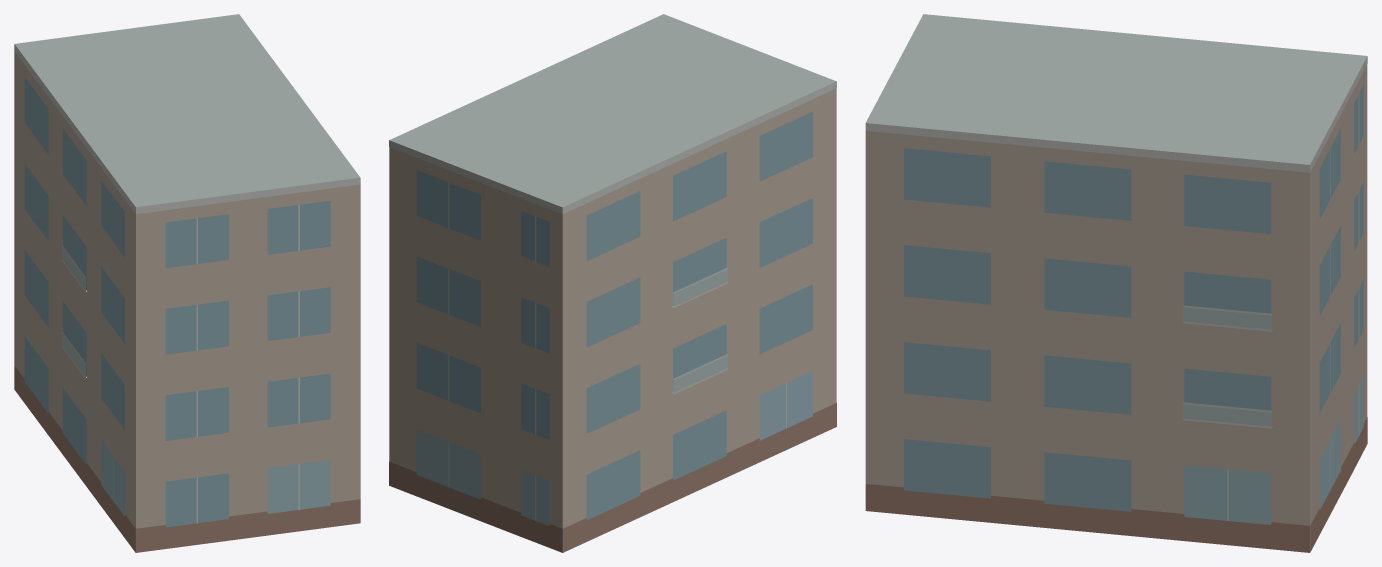
The model's file is residential-fa4459d6-2f6c-45b0-9a8a-64dc3830b680.glb.
3 views of the same model, side by side, from view 1: azimuth 30°, elevation 25°; view 2: azimuth 150°, elevation 25°; view 3: azimuth 270°, elevation 25° (orthographic). The views are drawn at different scales.
Visible parts, largest first — view 1: residential-fa4459d6-2f6c-45b0-9a8a-64dc3830b680.tmp; view 2: residential-fa4459d6-2f6c-45b0-9a8a-64dc3830b680.tmp; view 3: residential-fa4459d6-2f6c-45b0-9a8a-64dc3830b680.tmp.
Part boxes in pixels (left/top/right/bottom): residential-fa4459d6-2f6c-45b0-9a8a-64dc3830b680.tmp: left=14, top=14, right=360, bottom=552; residential-fa4459d6-2f6c-45b0-9a8a-64dc3830b680.tmp: left=389, top=14, right=836, bottom=552; residential-fa4459d6-2f6c-45b0-9a8a-64dc3830b680.tmp: left=865, top=14, right=1367, bottom=552.
Size of the model in its own units: 10.19 by 12.2 by 14.32.
